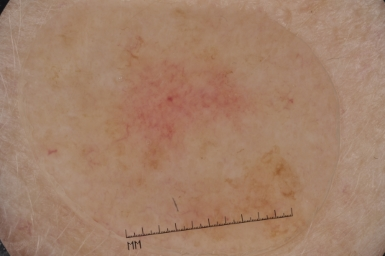seborrheic keratosis: (116, 38, 247, 165)
